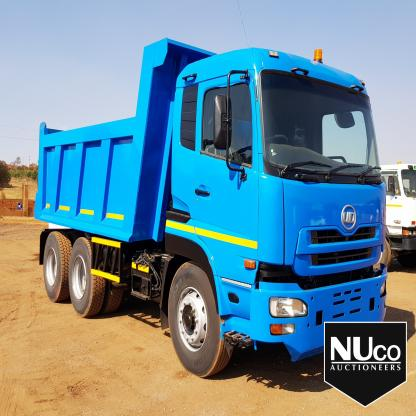dump_truck: (27, 28, 394, 383)
